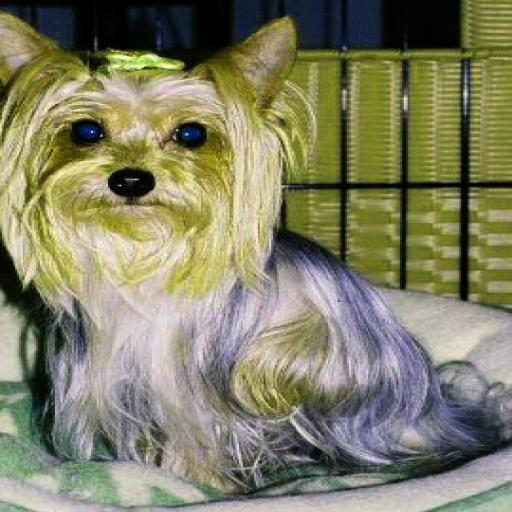dog_face: (0, 8, 298, 252)
